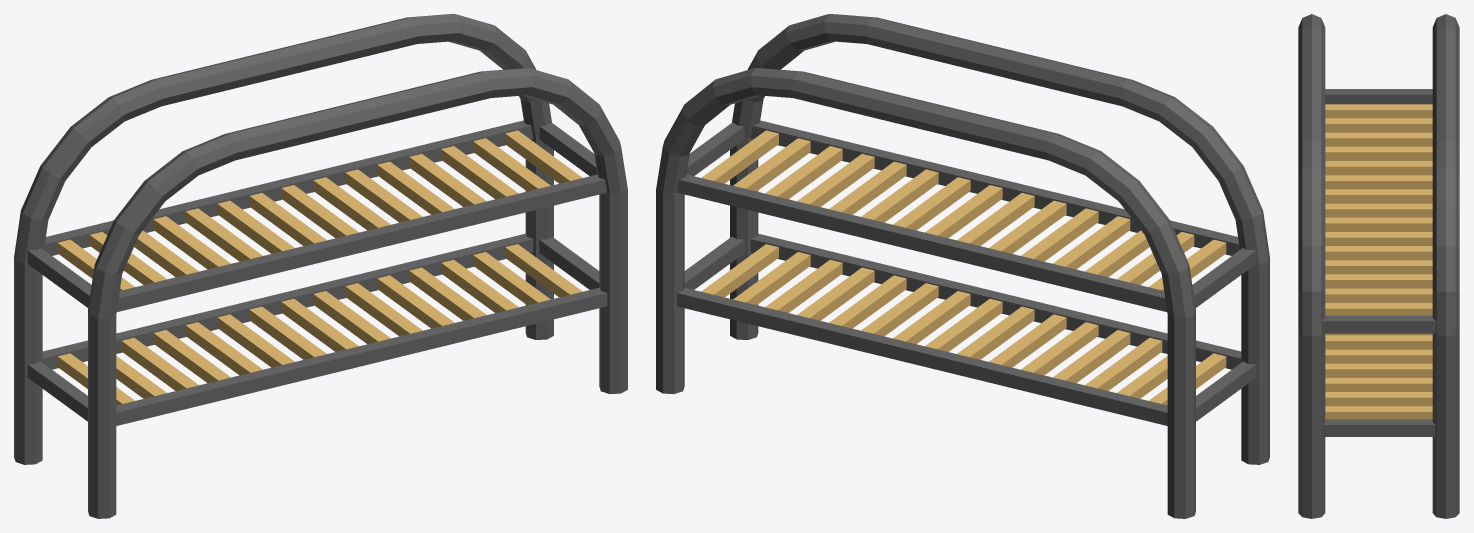
File: Discus Stand.fbx
The picture shows the model from 3 angles, left to right: view 1: azimuth 30°, elevation 25°; view 2: azimuth 150°, elevation 25°; view 3: azimuth 270°, elevation 25°; orthographic projection. The views are drawn at different scales.
Visible parts, largest first — view 1: Discus Stand; view 2: Discus Stand; view 3: Discus Stand.
Part boxes in pixels (x1,y1,x2,y2): Discus Stand: [14, 14, 627, 518]; Discus Stand: [656, 14, 1269, 518]; Discus Stand: [1298, 14, 1459, 518].
Bounding box in the file's own units: 756 × 468 × 216.
